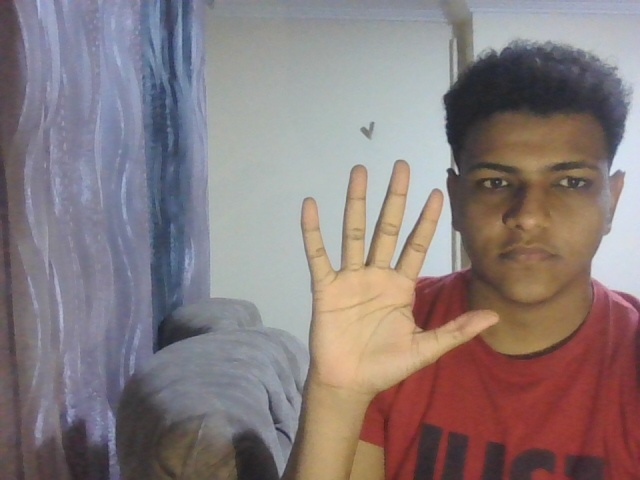Hello: (296, 156, 502, 409)
